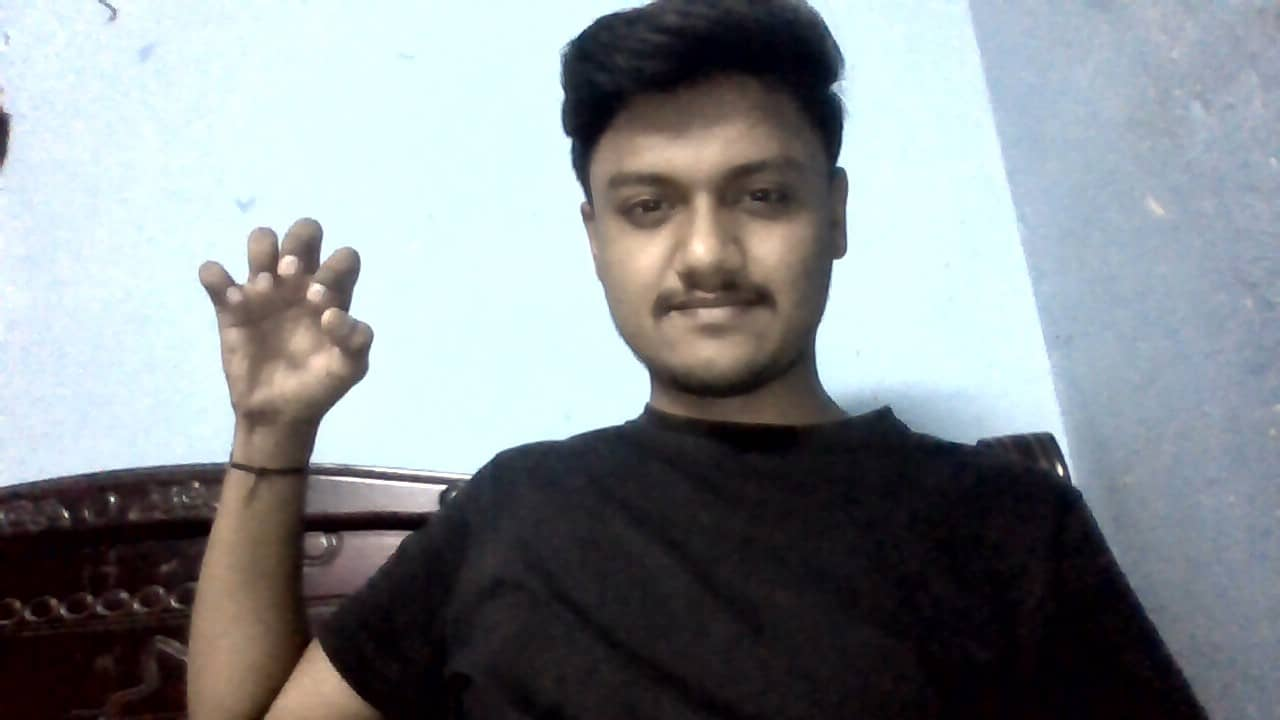hand: (193, 215, 378, 434)
